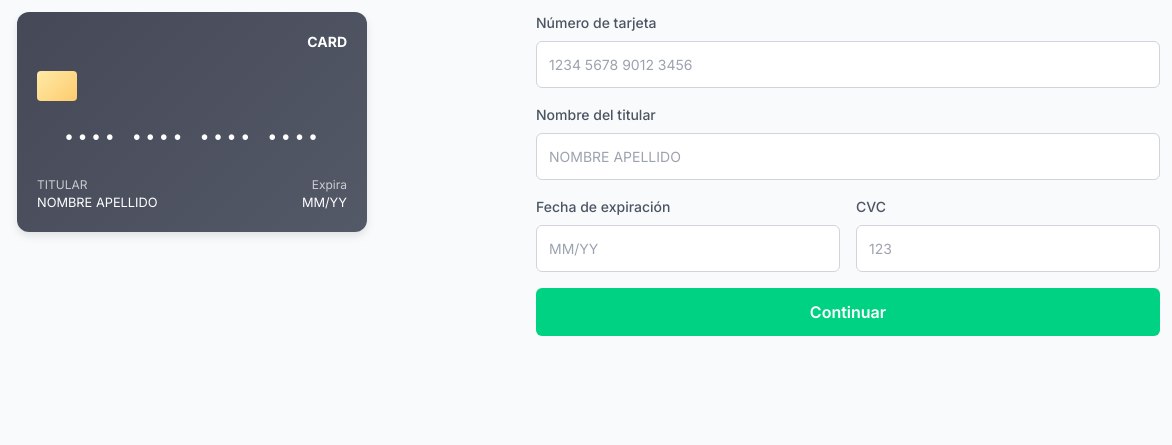
it: CreditCardForm › validates CVC format
Type "12" into the field labelled "CVC" at (1008, 248), box 856,225 -> 1160,272
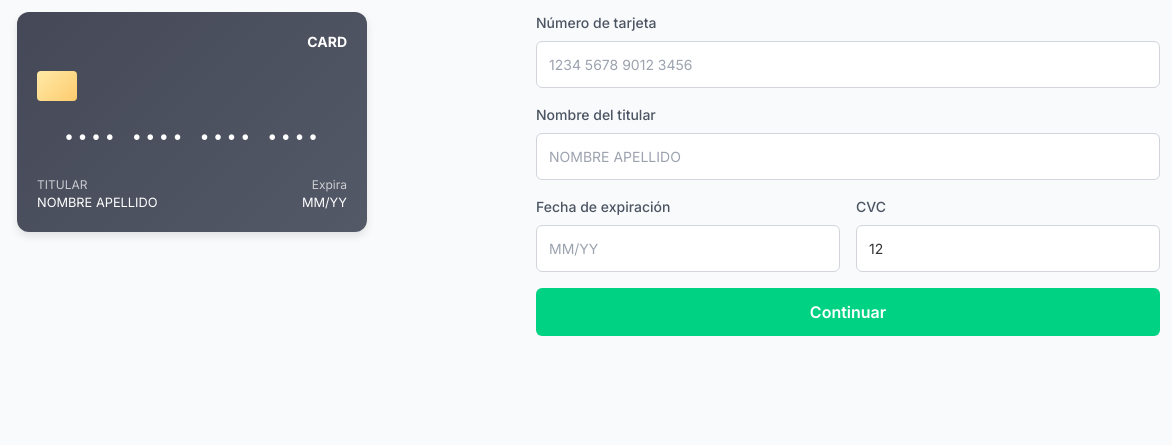
Submit the form from the button "Continuar", box 536,288 -> 1160,336
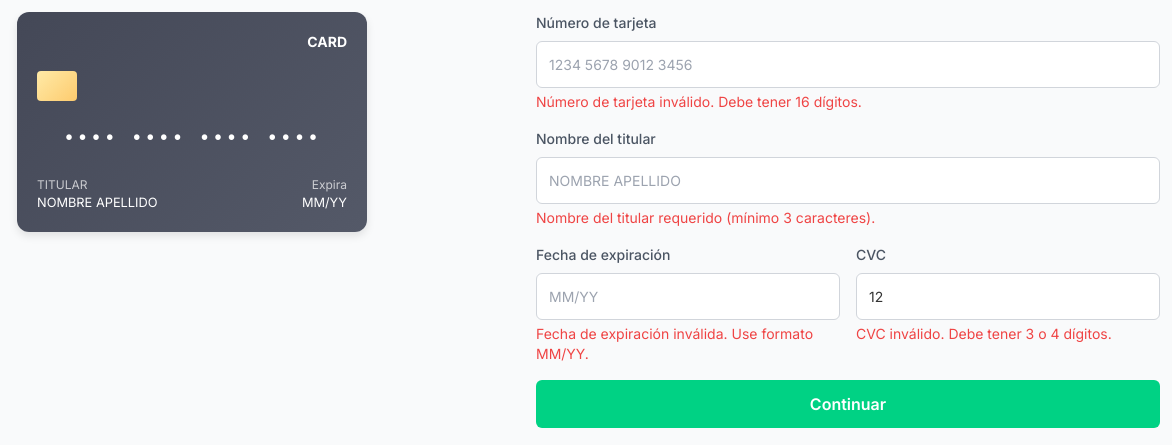
Now the text "CVC inválido. Debe tener 3 o 4 dígitos." is shown, box 856,325 -> 1112,342
